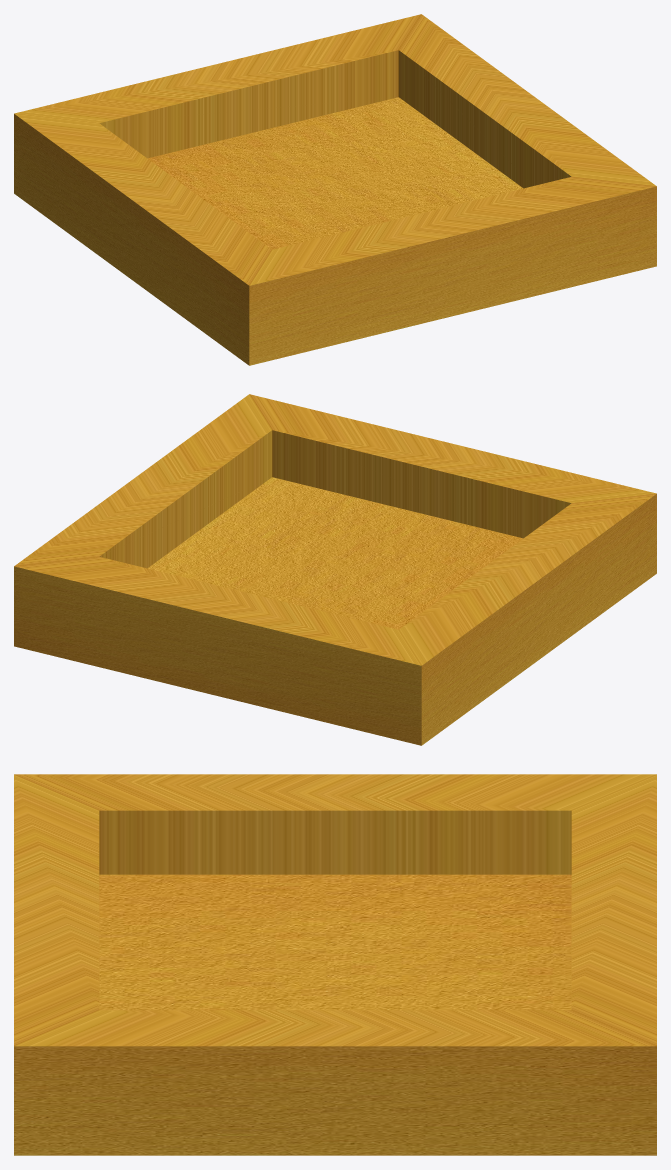
Rendered from board.obj.
3 views of the same model, one above another, from view 1: azimuth 30°, elevation 25°; view 2: azimuth 150°, elevation 25°; view 3: azimuth 270°, elevation 25° (orthographic). The views are drawn at different scales.
Parts seen in each view (by area): view 1: Cube; view 2: Cube; view 3: Cube.
Boxes of the visible parts, <box> form: Cube: <box>14,14,656,365</box>; Cube: <box>14,394,656,745</box>; Cube: <box>14,774,656,1155</box>.
Bounding box in the file's own units: 2 × 0.3751 × 2.
1 material, 1 textured.
